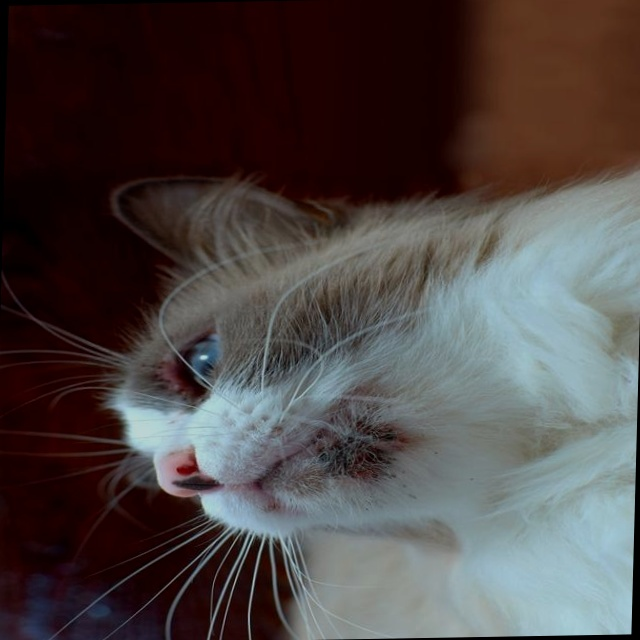acne: (314, 409, 409, 484)
